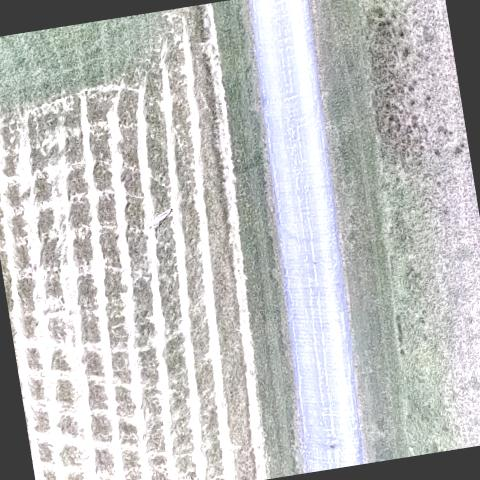person: (139, 204, 177, 228)
